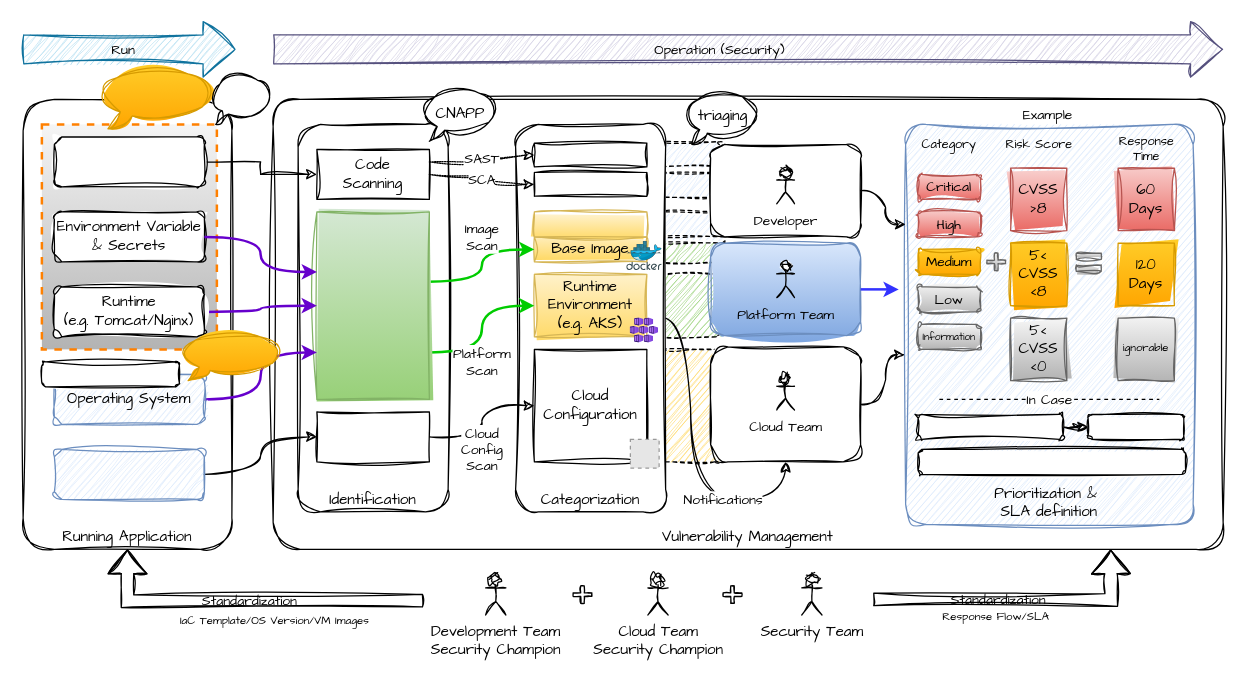
Image size: 1245x683. Some labels were removed from this diagram. Grey dashed boxes stand in for pictures. Each missing label, with the centre of its shape:
"Add-on Config" belongs at (590,224).
"Application Binary" belongs at (128,161).
"Cloud" belongs at (128,473).
"Coding Pattern" belongs at (590,154).
"Container Runtime" belongs at (110,374).
"CSPM (Cloud Detection & Response)" belongs at (372,436).
"CWP (Runtime Scanning)" belongs at (372,305).
"DAST" belongs at (241,98).
"Duration" belongs at (1135,426).
"Exemptions" belongs at (990,426).
"K8S Nodes" belongs at (232,355).
"Library" belongs at (590,183).
"Running Container" belongs at (157,97).
"Virtual Patching (If Available)" belongs at (1051,461).
